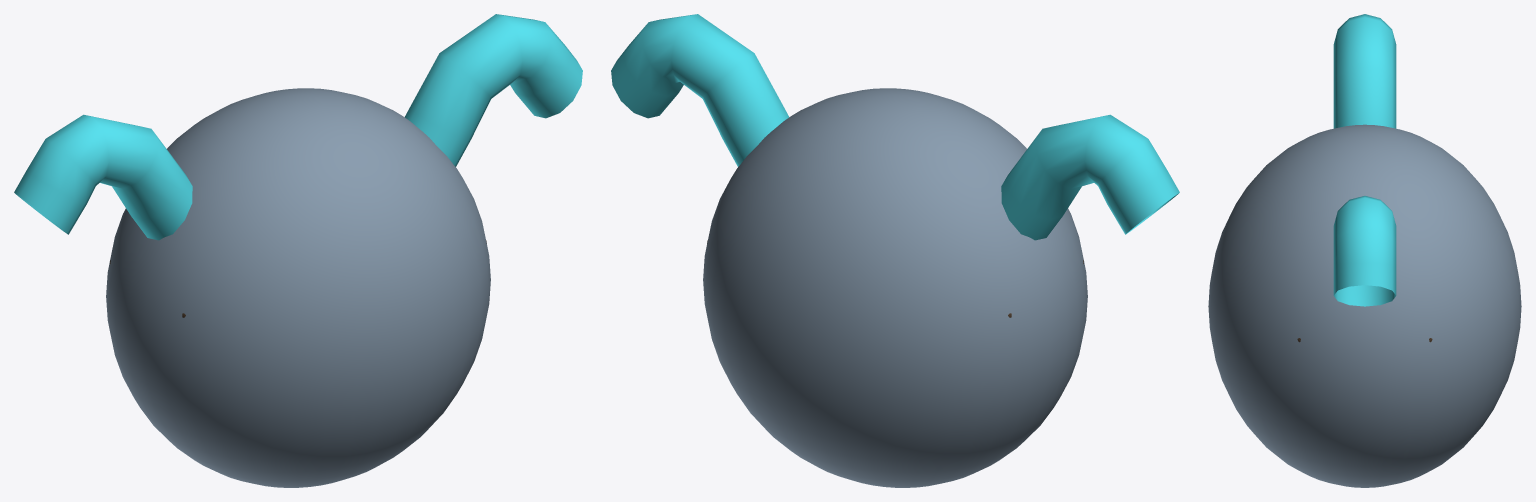
File: helm_v5.glb
3 renders of one model, left to right at view 1: azimuth 30°, elevation 25°; view 2: azimuth 150°, elevation 25°; view 3: azimuth 270°, elevation 25°, orthographic. The views are drawn at different scales.
Visible parts, largest first — view 1: HORNED_CAP_PRIMARY, SWEEPING_HORN_ACCENT.001, SWEEPING_HORN_ACCENT; view 2: HORNED_CAP_PRIMARY, SWEEPING_HORN_ACCENT.001, SWEEPING_HORN_ACCENT; view 3: HORNED_CAP_PRIMARY, SWEEPING_HORN_ACCENT, SWEEPING_HORN_ACCENT.001.
Boxes of the visible parts, x1,y1,x2,y2 form: HORNED_CAP_PRIMARY: (106, 88, 490, 487); SWEEPING_HORN_ACCENT.001: (405, 14, 582, 166); SWEEPING_HORN_ACCENT: (14, 114, 192, 240); HORNED_CAP_PRIMARY: (703, 88, 1087, 487); SWEEPING_HORN_ACCENT.001: (611, 14, 788, 166); SWEEPING_HORN_ACCENT: (1001, 114, 1179, 240); HORNED_CAP_PRIMARY: (1208, 124, 1521, 487); SWEEPING_HORN_ACCENT: (1333, 14, 1396, 128); SWEEPING_HORN_ACCENT.001: (1333, 196, 1396, 306).
Bounding box in the file's own units: 2.21 × 1.54 × 1.2.
